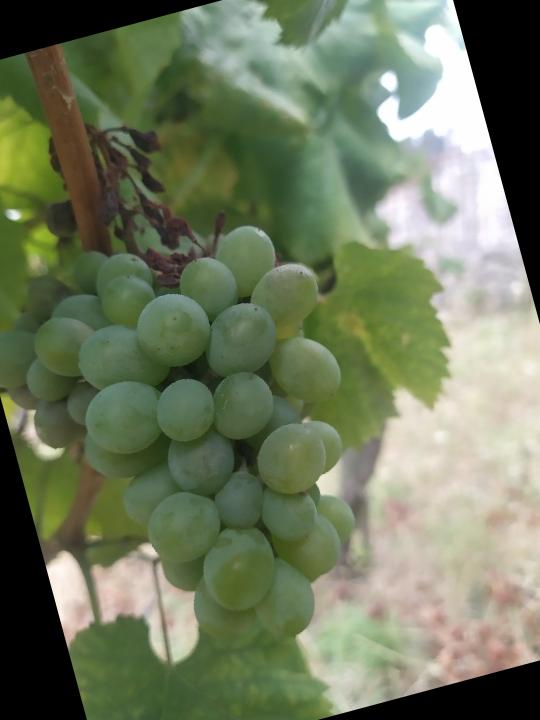grape: (0, 70, 411, 698)
